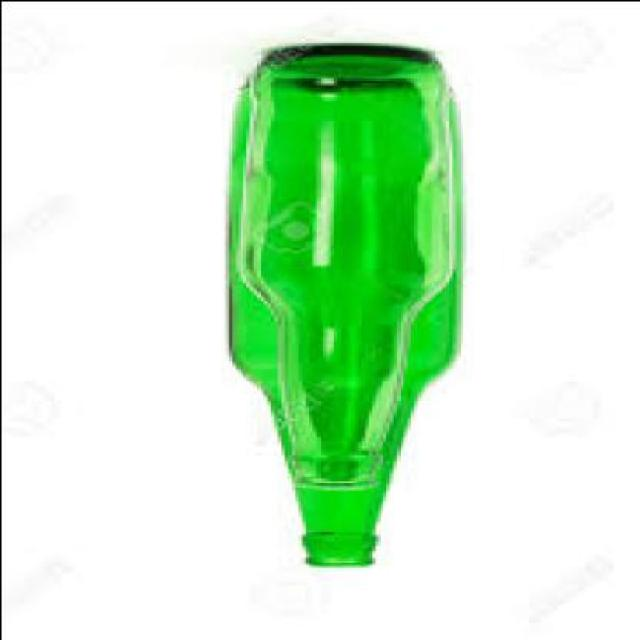glass: (231, 46, 466, 568)
